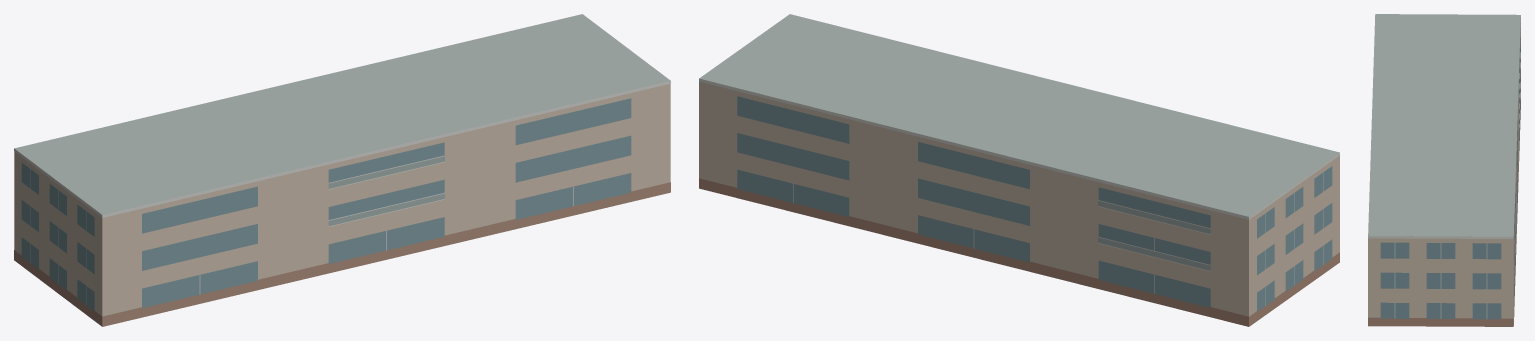
File: survey-upis-32834215.glb
The picture shows the model from 3 angles, left to right: view 1: azimuth 30°, elevation 25°; view 2: azimuth 150°, elevation 25°; view 3: azimuth 270°, elevation 25°; orthographic projection. The views are drawn at different scales.
Visible parts, largest first — view 1: survey-upis-32834215.tmp; view 2: survey-upis-32834215.tmp; view 3: survey-upis-32834215.tmp.
Boxes of the visible parts, x1=… form: survey-upis-32834215.tmp: x1=14, y1=14, x2=670, y2=326; survey-upis-32834215.tmp: x1=699, y1=14, x2=1339, y2=326; survey-upis-32834215.tmp: x1=1368, y1=14, x2=1520, y2=326.
Bounding box in the file's own units: 48.44 × 9.15 × 14.06.
